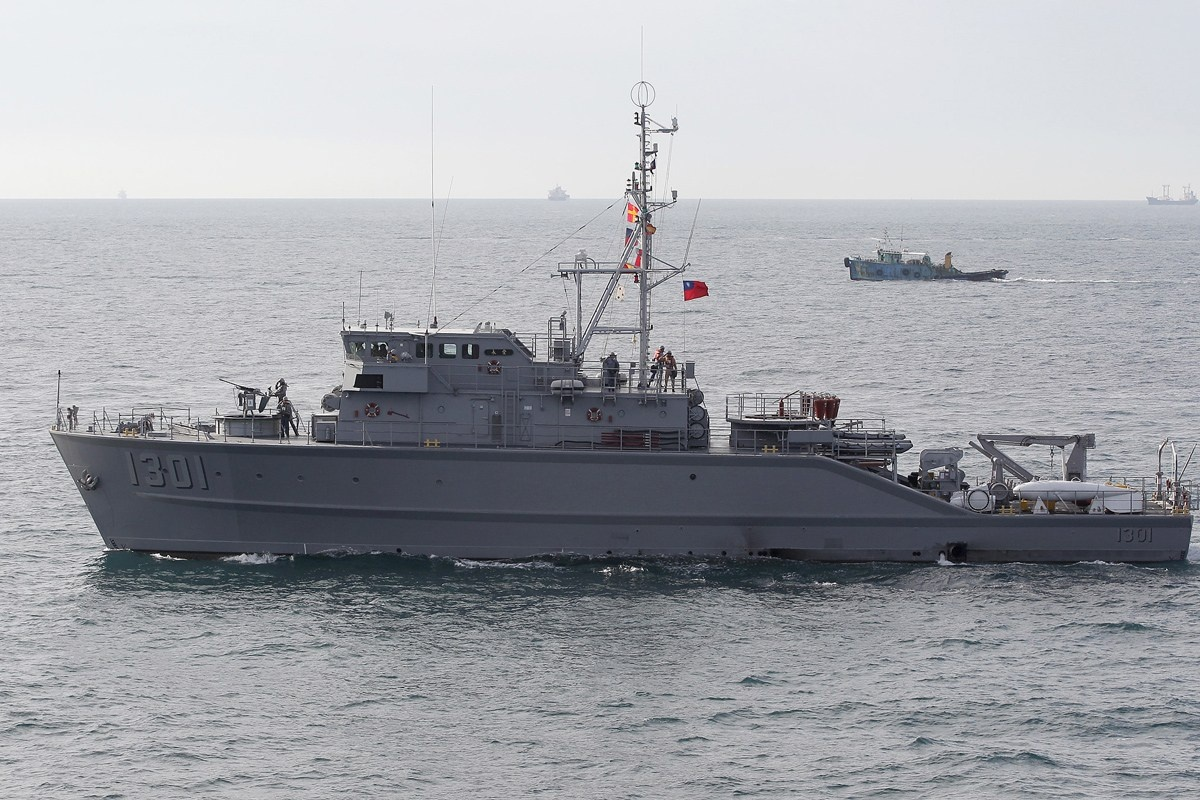otherboat: (841, 230, 1007, 283)
warship: (43, 93, 1200, 579)
